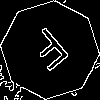F: (25, 25, 78, 80)
